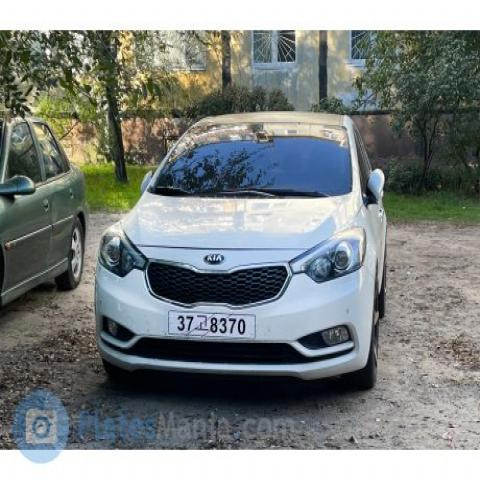LP: (167, 304, 259, 344)
